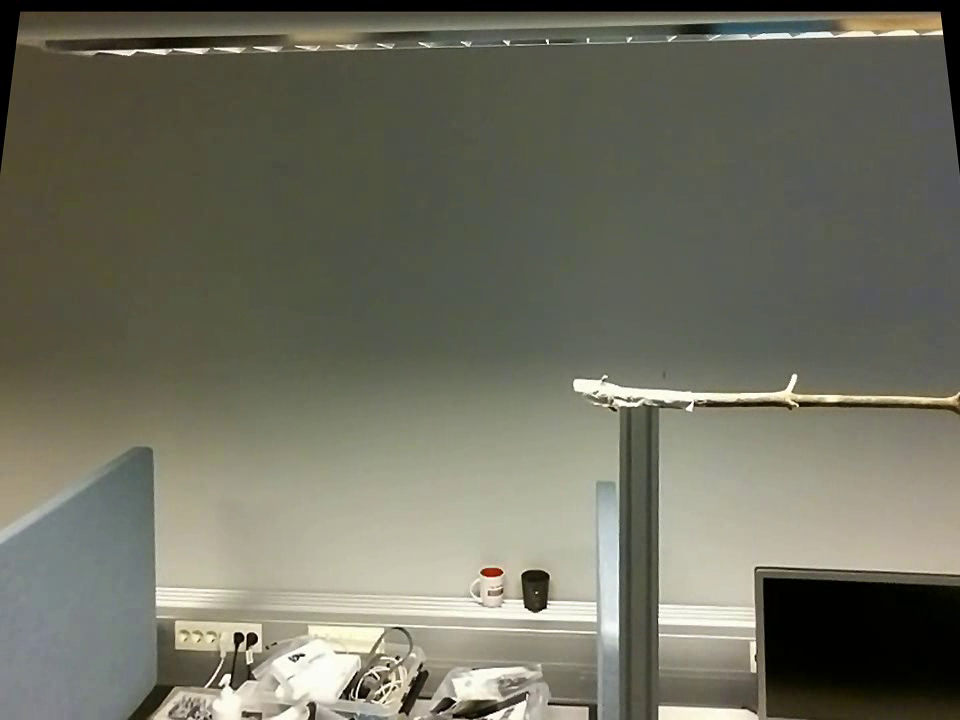aluminum_frame: (613, 409, 661, 717)
branch: (697, 359, 959, 421)
